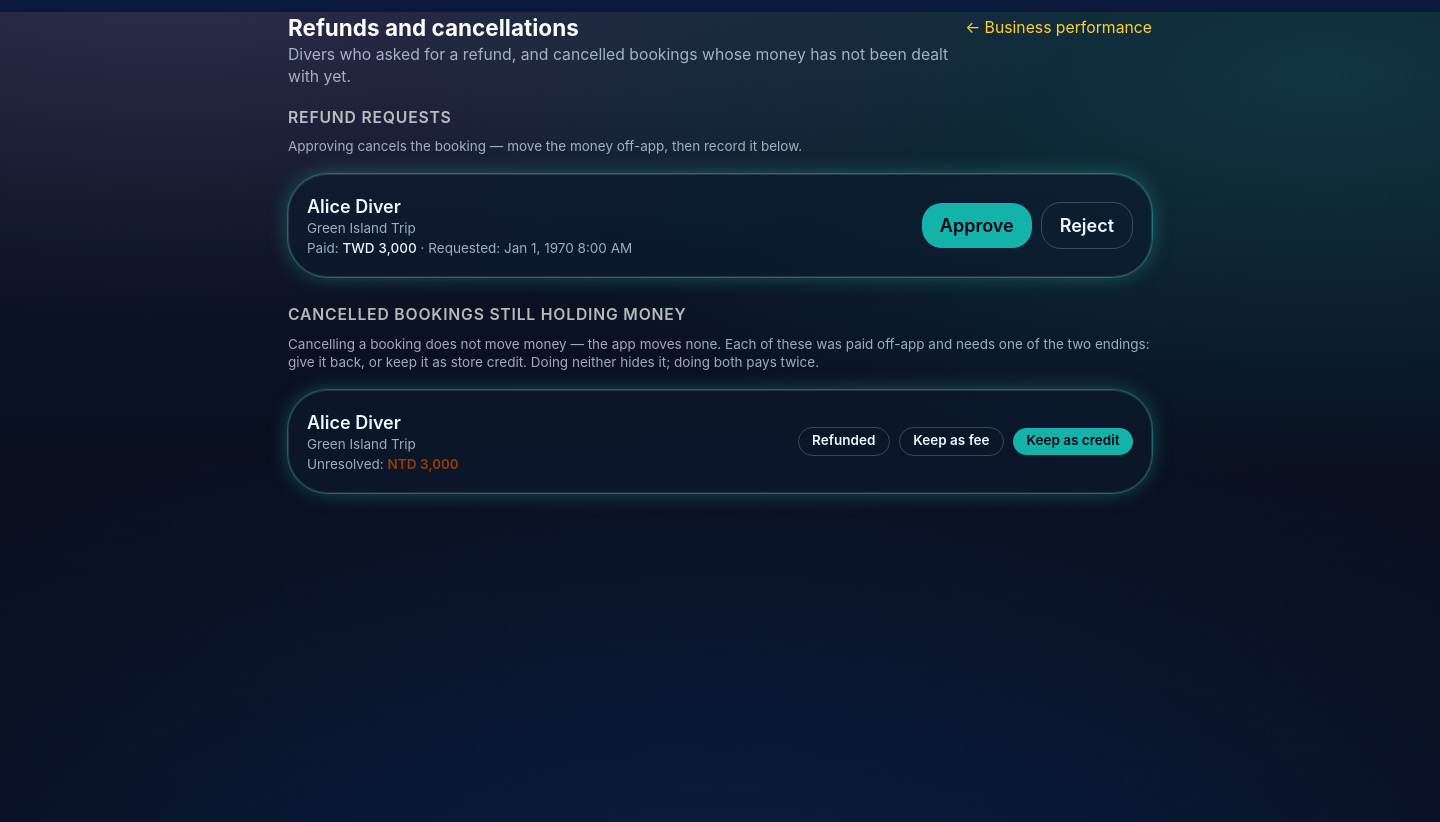
it: AdminRefundsPage · cancelled bookings still holding money › records a refunded payment for the full amount when the money went back
Click the button "Refunded" at (844, 441), box [798, 427, 890, 456]
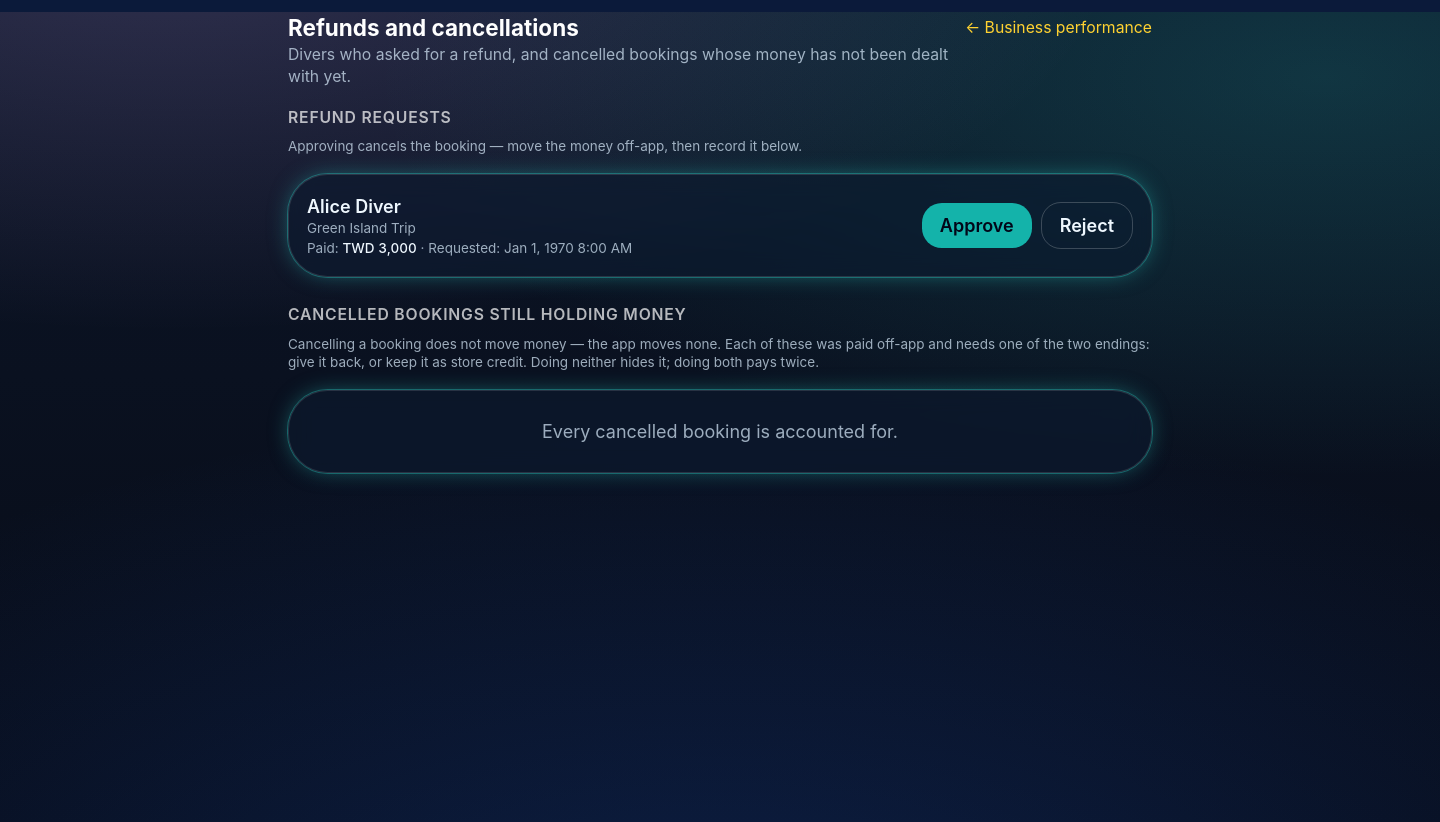
expect the button "Refunded" is gone: met
